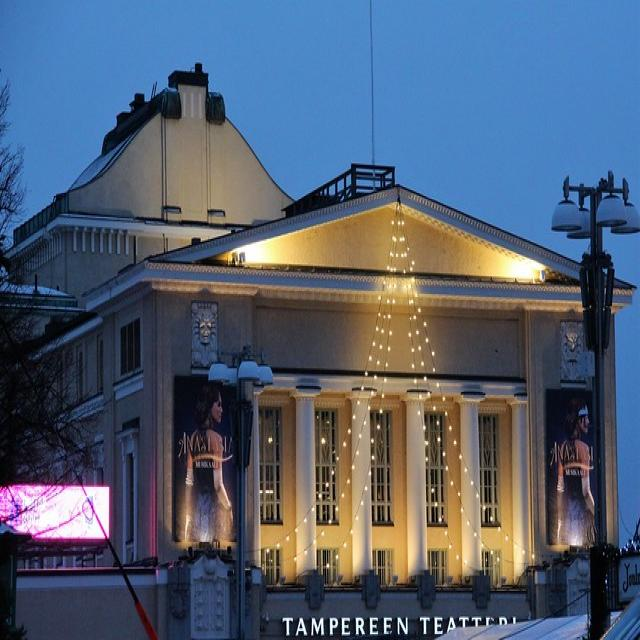Normal_building: (4, 77, 632, 625)
